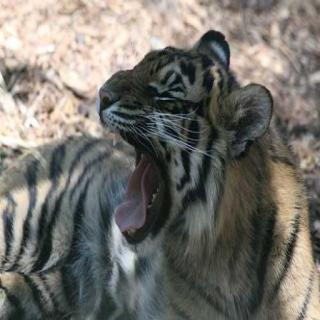Tiger: (35, 29, 313, 320)
